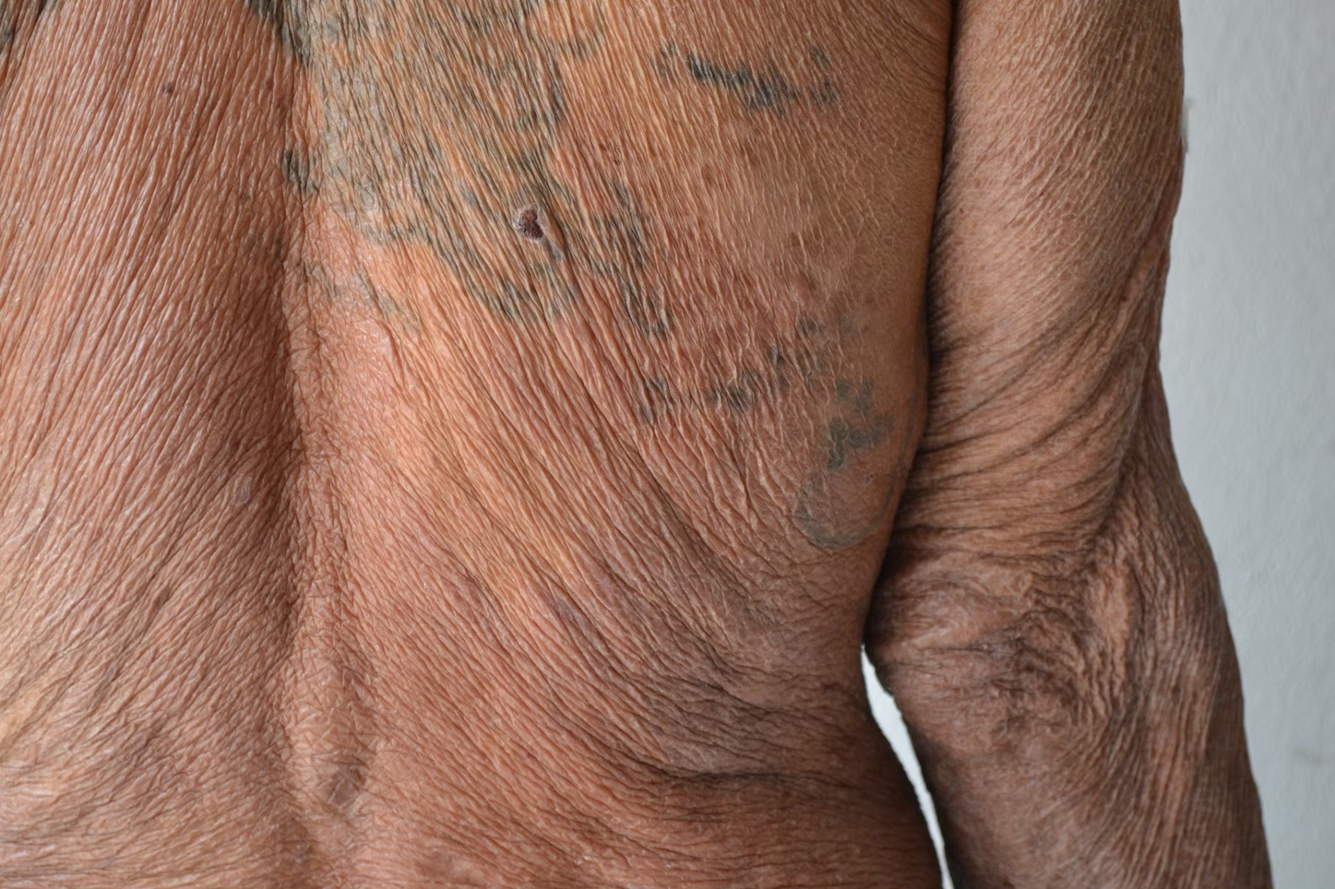Leprosy: (654, 114, 855, 368)
